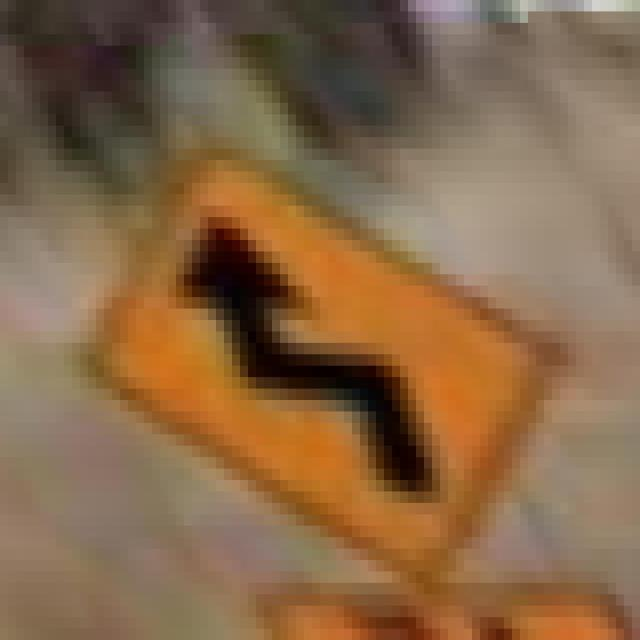Tikungan Ganda Pertama Ke Kiri: (56, 115, 568, 594)
